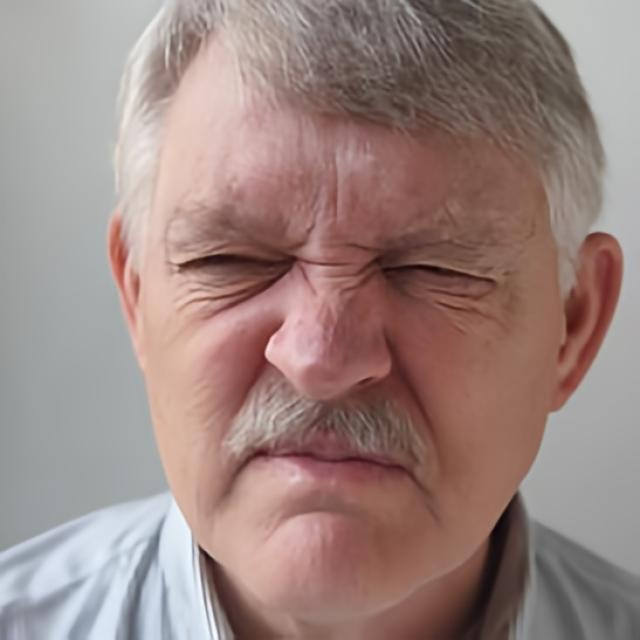disgust: (136, 18, 557, 625)
